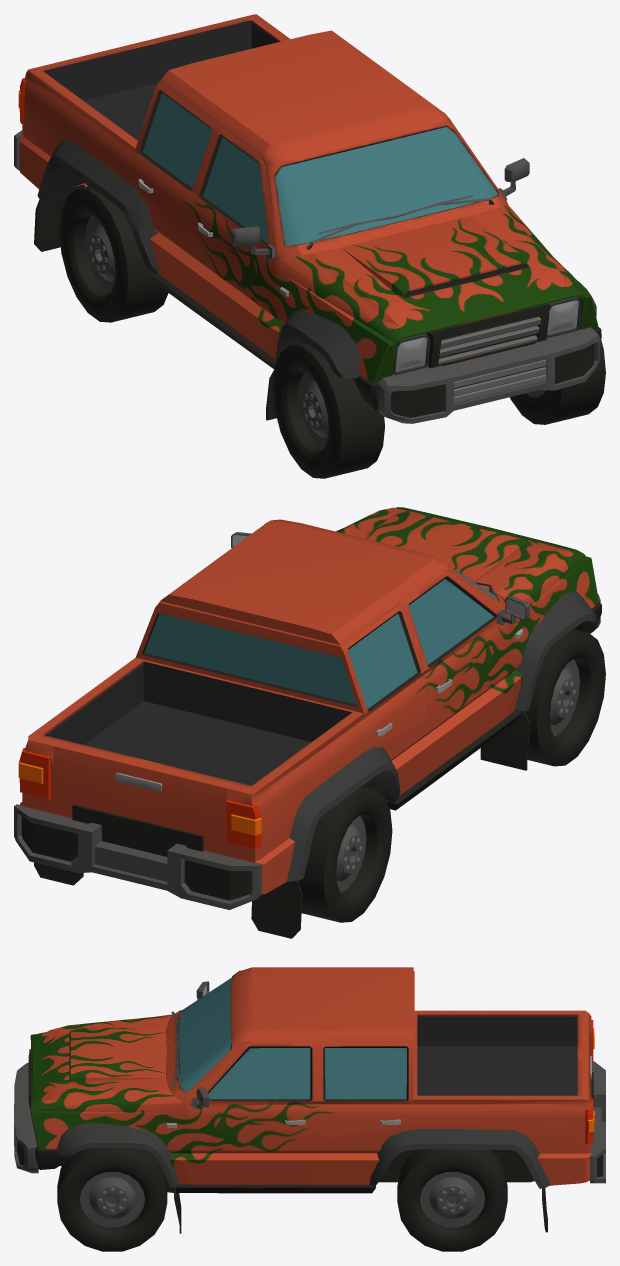
The model's file is Truck-Clean.fbx.
The picture shows the model from 3 angles, top to bottom: view 1: azimuth 30°, elevation 25°; view 2: azimuth 150°, elevation 25°; view 3: azimuth 270°, elevation 25°; orthographic projection. The views are drawn at different scales.
Visible parts, largest first — view 1: Truck, RtWheel1, RtWheel2, LftWheel1; view 2: Truck, RtWheel2, RtWheel1; view 3: Truck, LftWheel2, LftWheel1.
Part boxes in pixels (x1,y1,x2,y2): Truck: (14, 14, 601, 423); RtWheel1: (272, 341, 384, 478); RtWheel2: (59, 186, 168, 322); LftWheel1: (510, 339, 605, 424); Truck: (14, 507, 601, 938); RtWheel2: (298, 786, 392, 922); RtWheel1: (524, 629, 605, 766); Truck: (14, 967, 605, 1233); LftWheel2: (397, 1149, 507, 1251); LftWheel1: (57, 1148, 167, 1251).
Bounding box in the file's own units: 235 × 193 × 512.
1 material, 1 textured.
